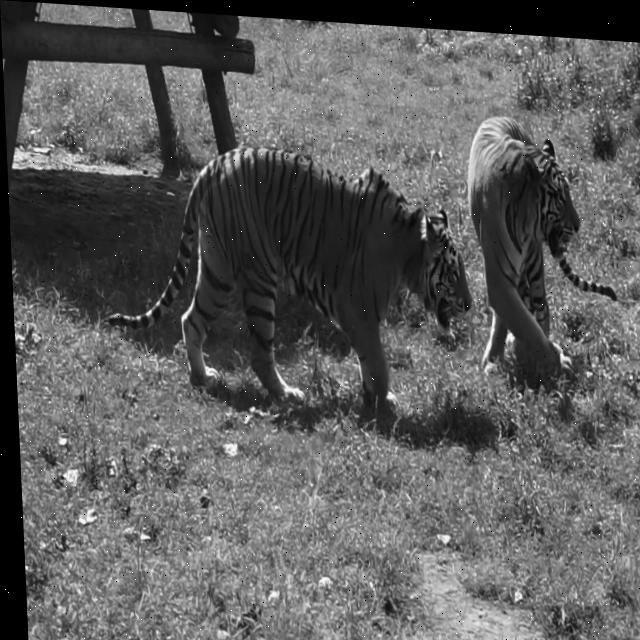Tiger: (98, 133, 478, 426), (464, 111, 621, 388)
